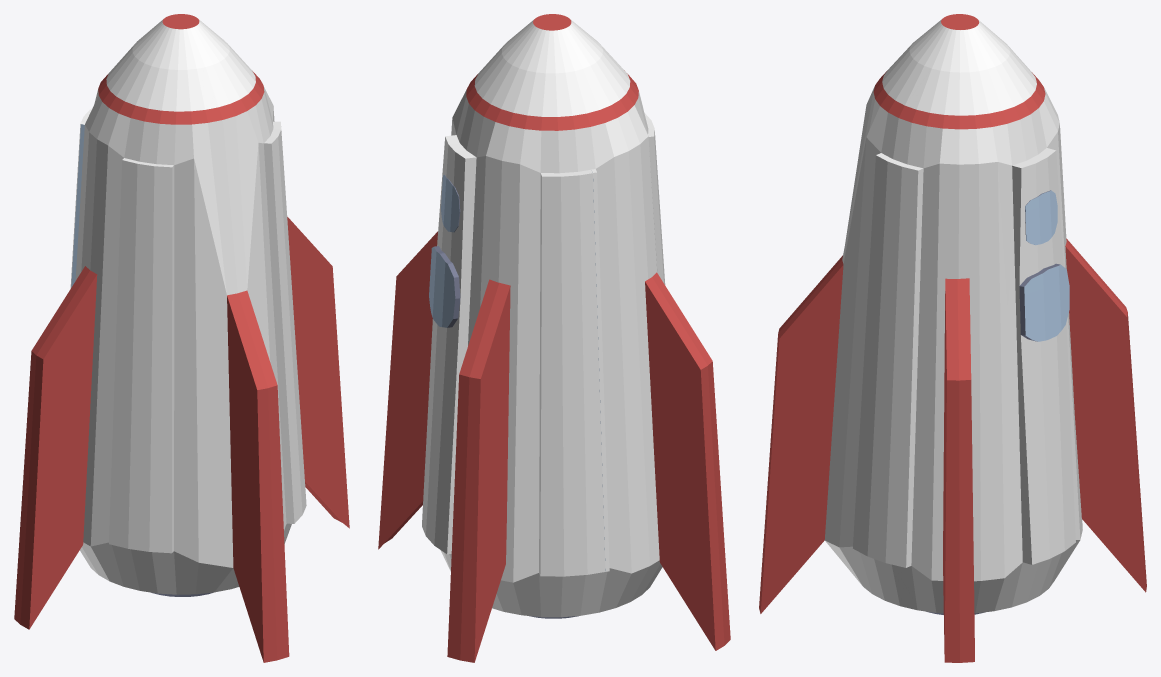
The model's file is Rocket.fbx.
3 views of the same model, side by side, from view 1: azimuth 30°, elevation 25°; view 2: azimuth 150°, elevation 25°; view 3: azimuth 270°, elevation 25° (orthographic). The views are drawn at different scales.
Visible parts, largest first — view 1: Cylinder; view 2: Cylinder; view 3: Cylinder.
Boxes of the visible parts, x1=… form: Cylinder: x1=14, y1=14, x2=349, y2=662; Cylinder: x1=378, y1=14, x2=730, y2=662; Cylinder: x1=759, y1=14, x2=1146, y2=662.
Bounding box in the file's own units: 386 × 644 × 386.
Materials: 1 (1 with a texture image).
